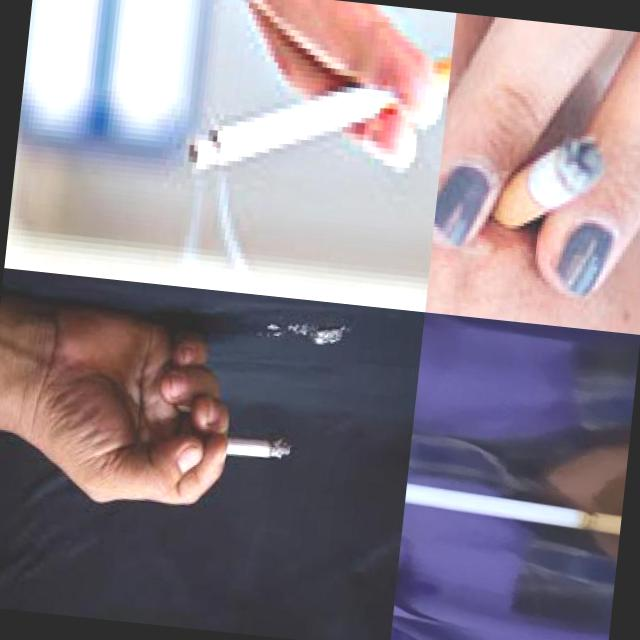smoke: (186, 28, 452, 196), (488, 128, 606, 240), (404, 480, 622, 536), (177, 426, 291, 461)
